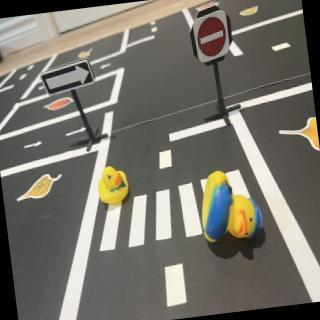duck_regular: (95, 163, 134, 208)
duck_specialty: (196, 164, 268, 249)
road_crosswalk: (90, 161, 264, 256)
road_oneway: (64, 126, 91, 139), (22, 141, 44, 151), (98, 63, 114, 71), (37, 85, 48, 94)
sign_noentry: (193, 8, 233, 64)
sign_oneway_right: (41, 59, 99, 99)
